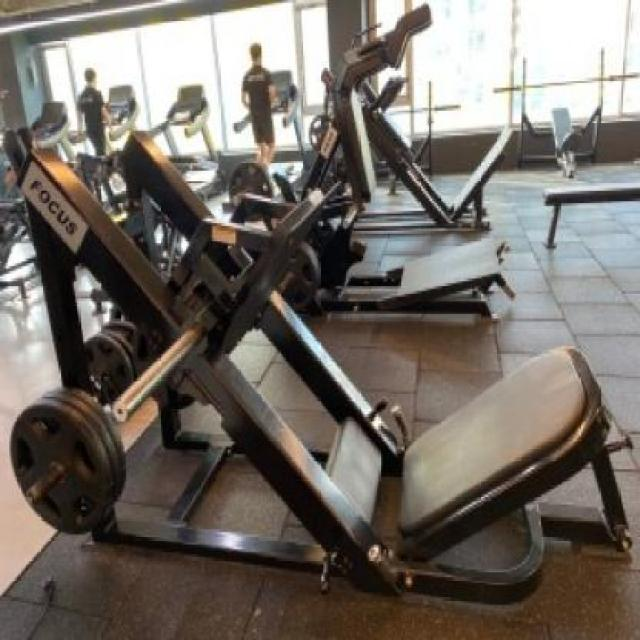leg press: (3, 54, 640, 638)
